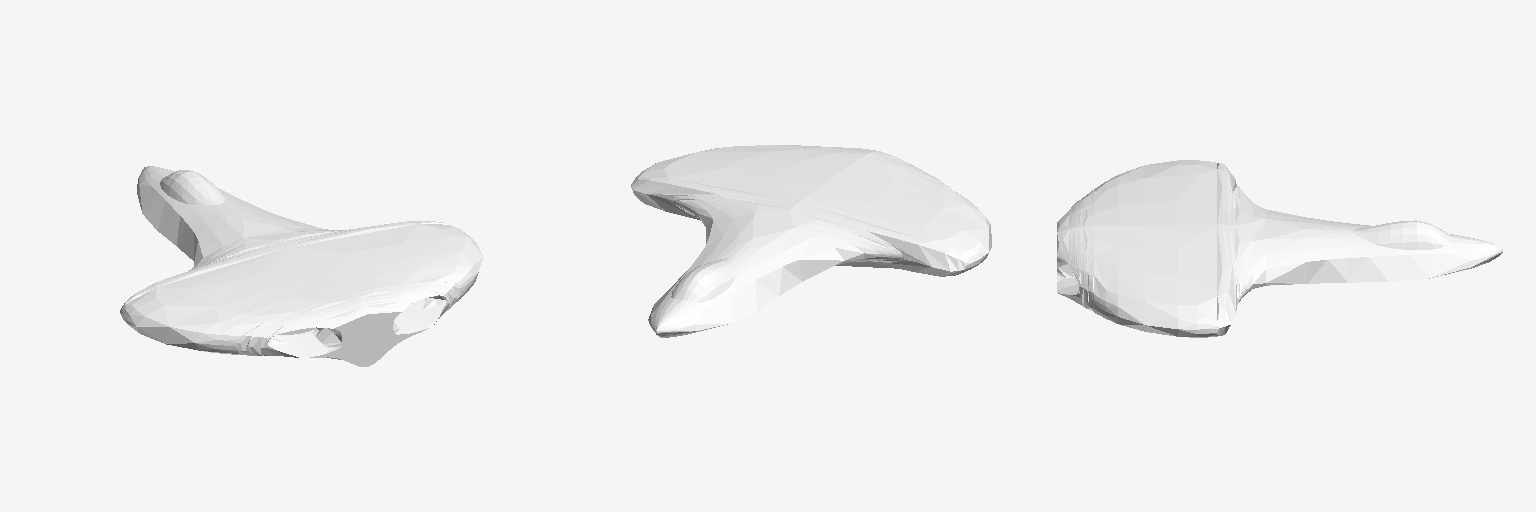
Rendered from eagleship.obj.
3 renders of one model, left to right at view 1: azimuth 30°, elevation 25°; view 2: azimuth 150°, elevation 25°; view 3: azimuth 270°, elevation 25°, orthographic.
Parts seen in each view (by area): view 1: Default object_1; view 2: Default object_1; view 3: Default object_1.
Boxes of the visible parts, x1=… form: Default object_1: x1=120, y1=166, x2=482, y2=366; Default object_1: x1=631, y1=145, x2=991, y2=337; Default object_1: x1=1057, y1=160, x2=1502, y2=337.
Bounding box in the file's own units: 10.72 × 2.05 × 12.13.